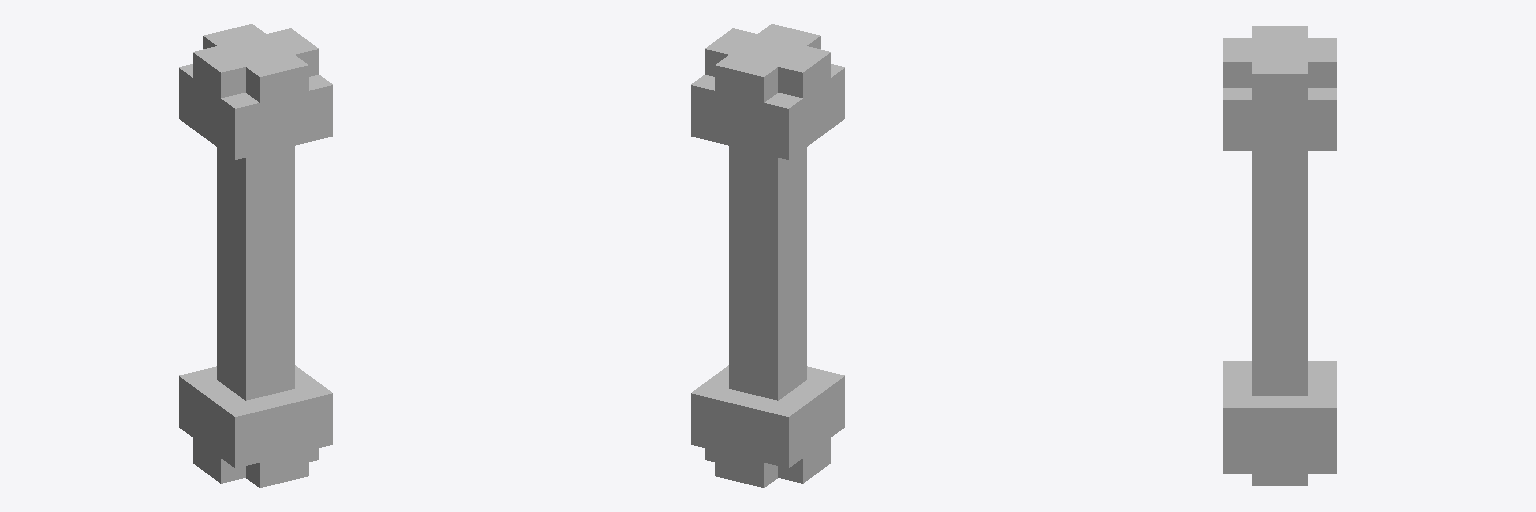
Rendered from Bone.obj.
The picture shows the model from 3 angles: view 1: azimuth 30°, elevation 25°; view 2: azimuth 150°, elevation 25°; view 3: azimuth 270°, elevation 25°; orthographic projection.
Visible parts, largest first — view 1: object 1; view 2: object 1; view 3: object 1.
Part boxes in pixels (bbox=[...]): object 1: bbox=[179, 24, 332, 487]; object 1: bbox=[691, 24, 844, 487]; object 1: bbox=[1223, 26, 1336, 485].
Size of the model in its own units: 0.4 by 1.6 by 0.4.